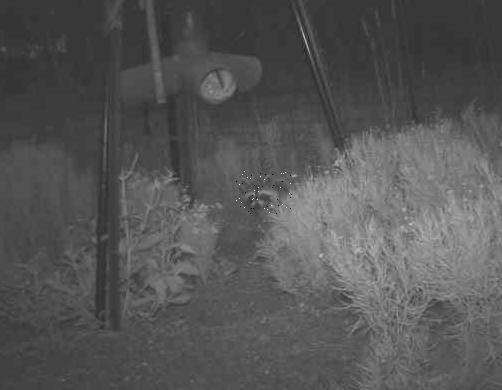Raccoon: (235, 172, 291, 216)
